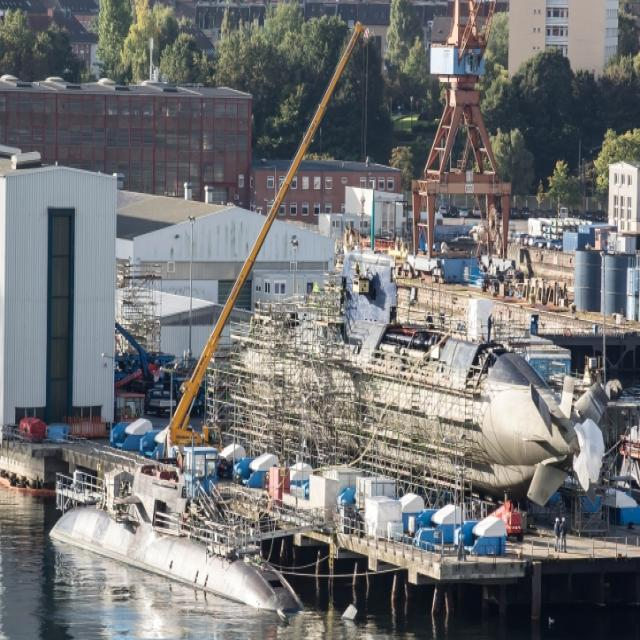submarine: (226, 292, 596, 489), (37, 453, 310, 616)
